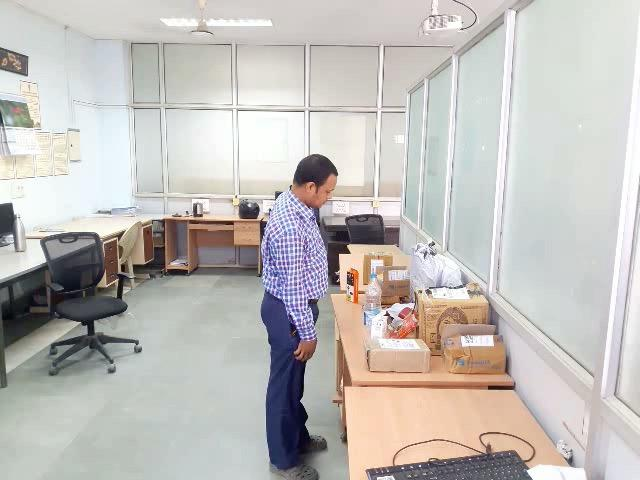Normal: (122, 109, 521, 480)
shoplifting: (246, 294, 343, 366)
